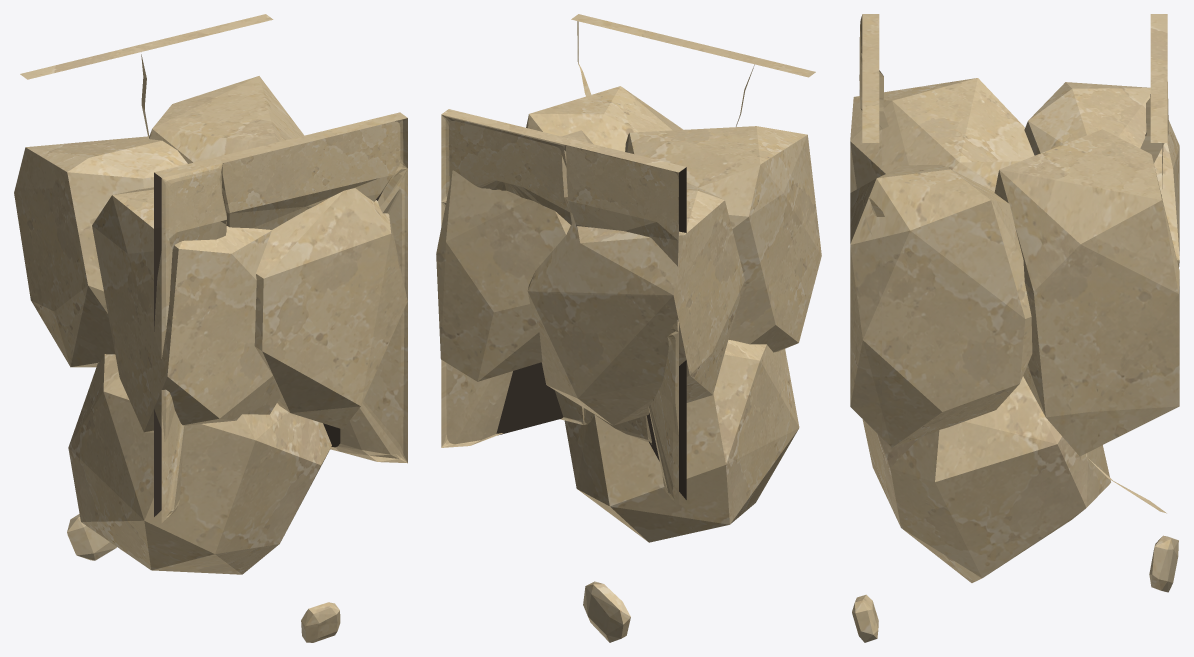
Rendered from ground_bottom_square_strip_08.glb.
3 renders of one model, left to right at view 1: azimuth 30°, elevation 25°; view 2: azimuth 150°, elevation 25°; view 3: azimuth 270°, elevation 25°, orthographic. The views are drawn at different scales.
Visible parts, largest first — view 1: GroundBottomSquareStrip08_Body; view 2: GroundBottomSquareStrip08_Body; view 3: GroundBottomSquareStrip08_Body.
Part boxes in pixels (x1=…): GroundBottomSquareStrip08_Body: x1=14, y1=14, x2=407, y2=642; GroundBottomSquareStrip08_Body: x1=436, y1=14, x2=821, y2=642; GroundBottomSquareStrip08_Body: x1=850, y1=14, x2=1179, y2=642.
Bounding box in the file's own units: 1 × 1.96 × 1.08.
9 materials, 8 textured.
